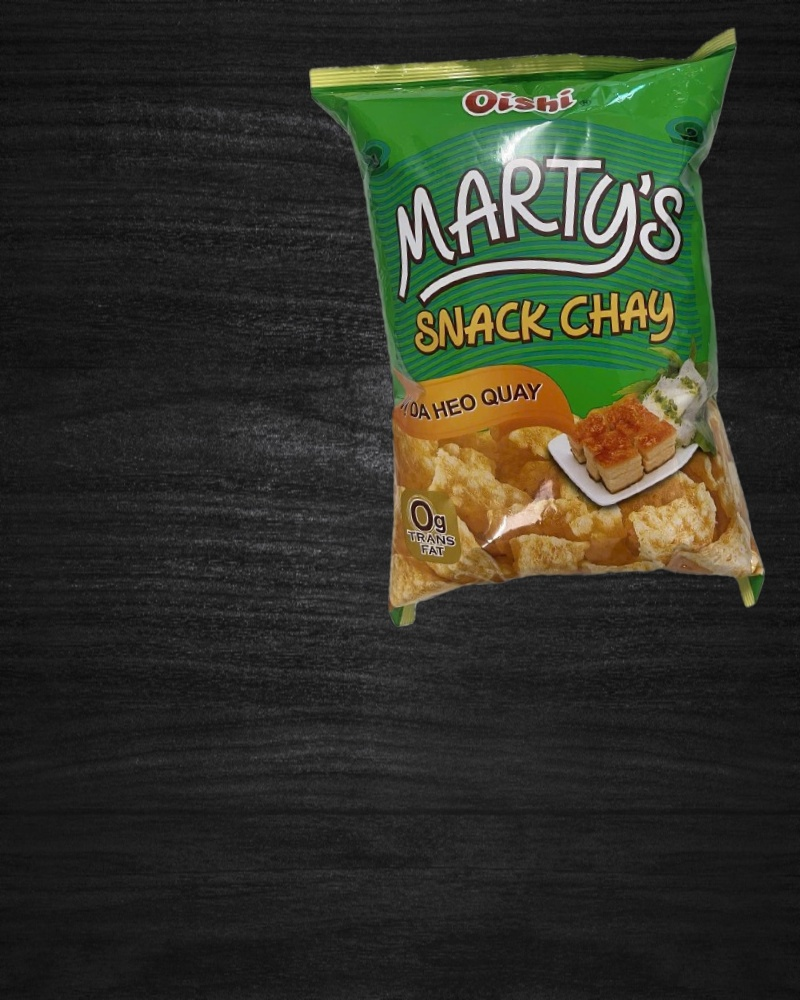Snack chay: (309, 27, 787, 643)
